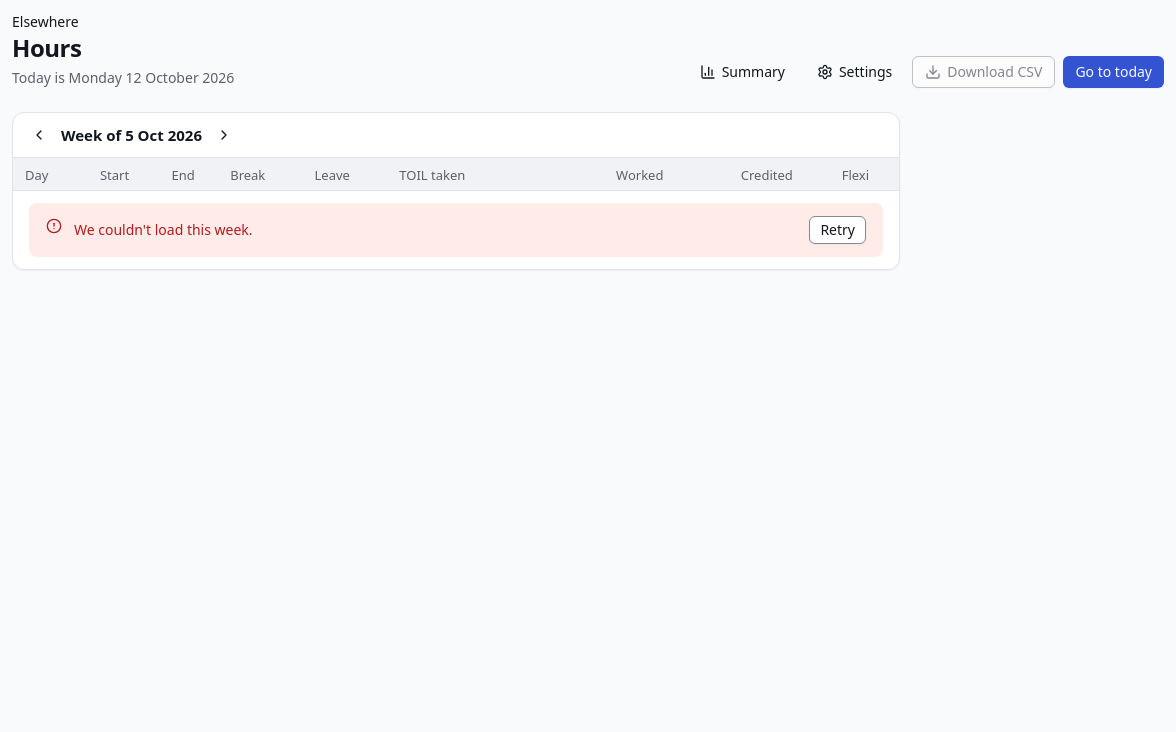
it: WeekView › keeps the header when the week fails to load, and retries
Expected: the heading "Hours" is shown, [12, 31, 81, 64]
Expected: the text "We couldn't load this week." is shown, [74, 220, 253, 238]
Click the button "Retry".
click(838, 230)  # box [809, 216, 866, 244]
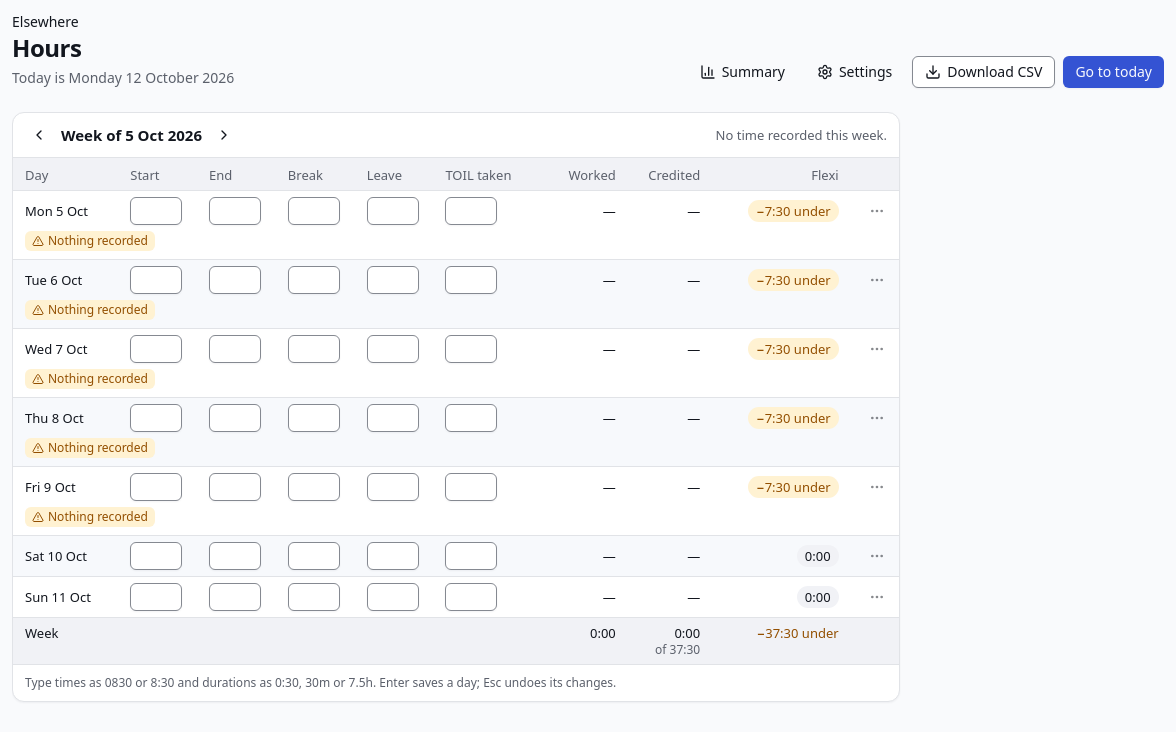
Result: the text "No time recorded this week." is shown at [716, 126, 887, 144]
